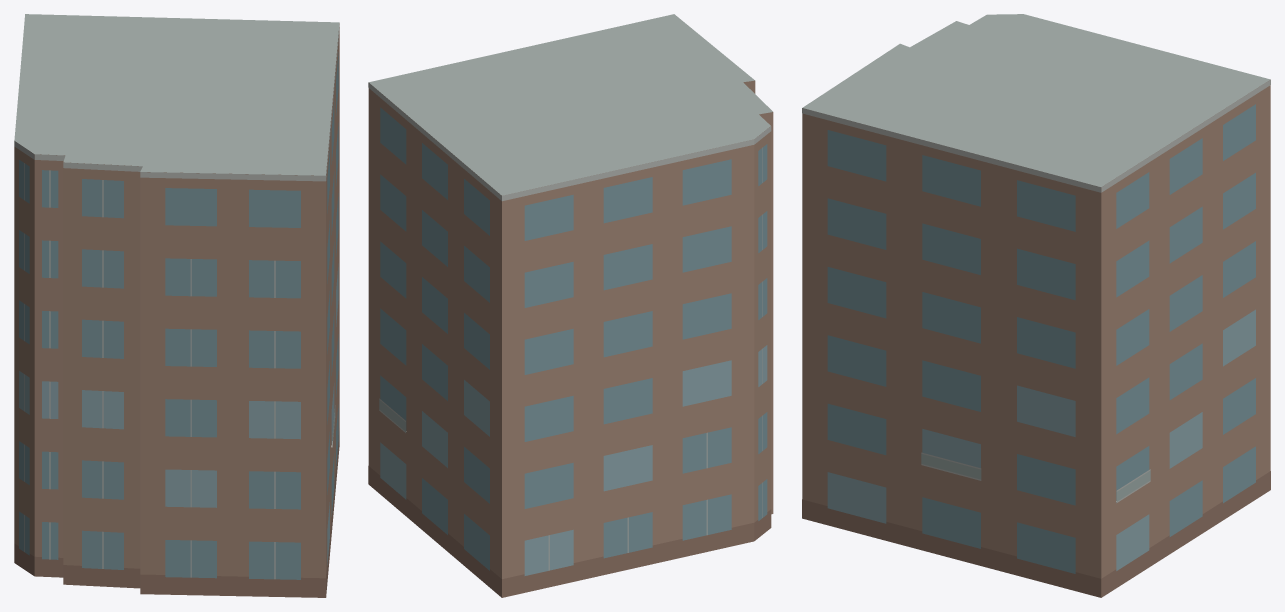
File: survey-upis-33024036.glb
3 views of the same model, side by side, from view 1: azimuth 30°, elevation 25°; view 2: azimuth 150°, elevation 25°; view 3: azimuth 270°, elevation 25° (orthographic). The views are drawn at different scales.
Parts seen in each view (by area): view 1: survey-upis-33024036.tmp; view 2: survey-upis-33024036.tmp; view 3: survey-upis-33024036.tmp.
Part boxes in pixels (box(x1,y1,x2,y2)): survey-upis-33024036.tmp: box(14, 14, 339, 597); survey-upis-33024036.tmp: box(368, 14, 773, 597); survey-upis-33024036.tmp: box(802, 14, 1270, 597).
Size of the model in its own units: 16.3 by 18 by 18.62.
